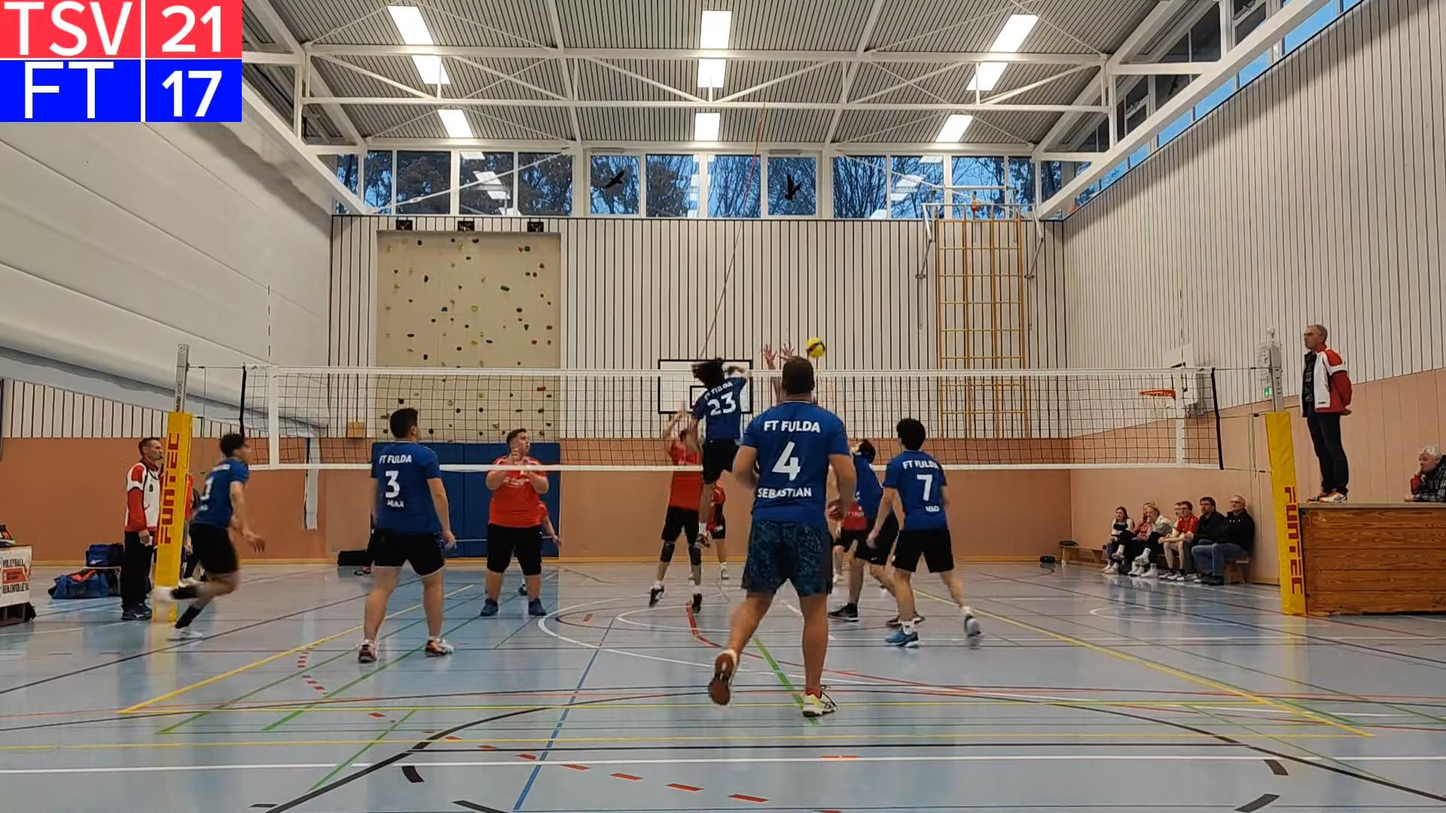attacco: (688, 353, 750, 553)
muro: (764, 341, 802, 404)
